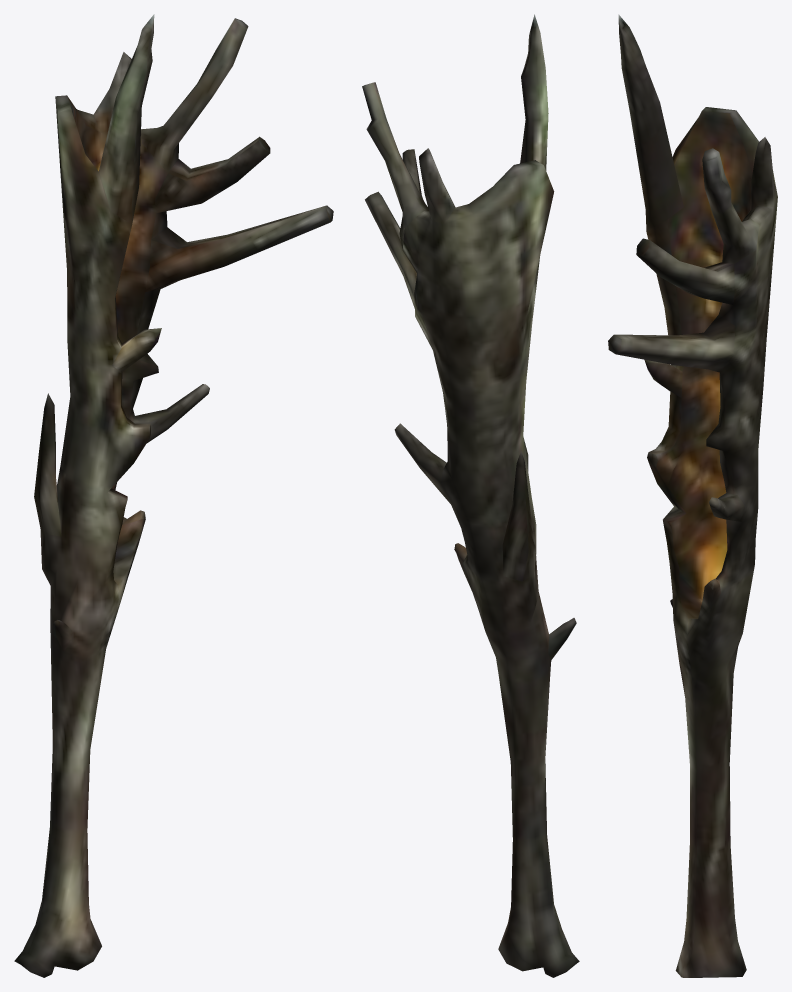
File: weapon-unholy-hearth.glb
The picture shows the model from 3 angles, left to right: view 1: azimuth 30°, elevation 25°; view 2: azimuth 150°, elevation 25°; view 3: azimuth 270°, elevation 25°; orthographic projection. The views are drawn at different scales.
Visible parts, largest first — view 1: cudgelFireA_MDL_q; view 2: cudgelFireA_MDL_q; view 3: cudgelFireA_MDL_q.
Boxes of the visible parts, left/top/right/bottom form: cudgelFireA_MDL_q: left=14, top=14, right=333, bottom=977; cudgelFireA_MDL_q: left=362, top=14, right=579, bottom=977; cudgelFireA_MDL_q: left=608, top=14, right=777, bottom=977.
Bounding box in the file's own units: 0.4482 × 1.54 × 0.2399.
Materials: 1 (1 with a texture image).
